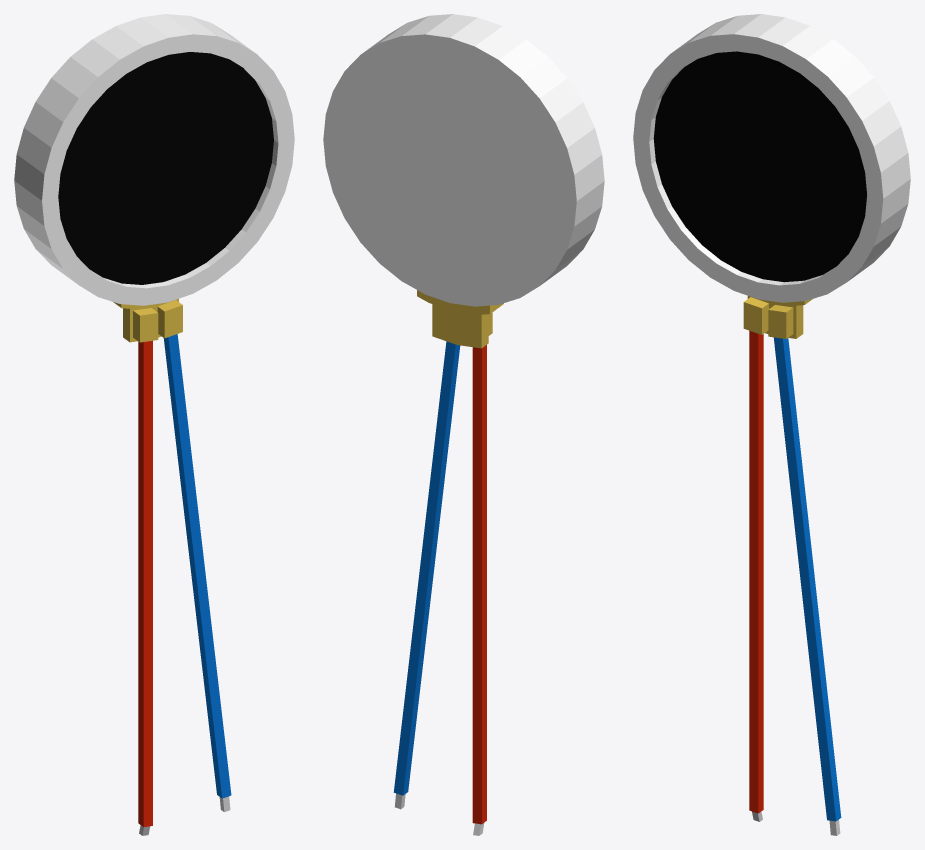
Rendered from VibrationMotor.glb.
The picture shows the model from 3 angles, left to right: view 1: azimuth 30°, elevation 25°; view 2: azimuth 150°, elevation 25°; view 3: azimuth 330°, elevation 25°; orthographic projection.
Visible parts, largest first — view 1: Vibration Motor; view 2: Vibration Motor; view 3: Vibration Motor.
Boxes of the visible parts, box(x1,y1,x2,y2) form: Vibration Motor: box(14, 14, 294, 835); Vibration Motor: box(323, 14, 604, 835); Vibration Motor: box(633, 14, 910, 835).
Bounding box in the file's own units: 0.2076 × 0.6301 × 0.0395.
